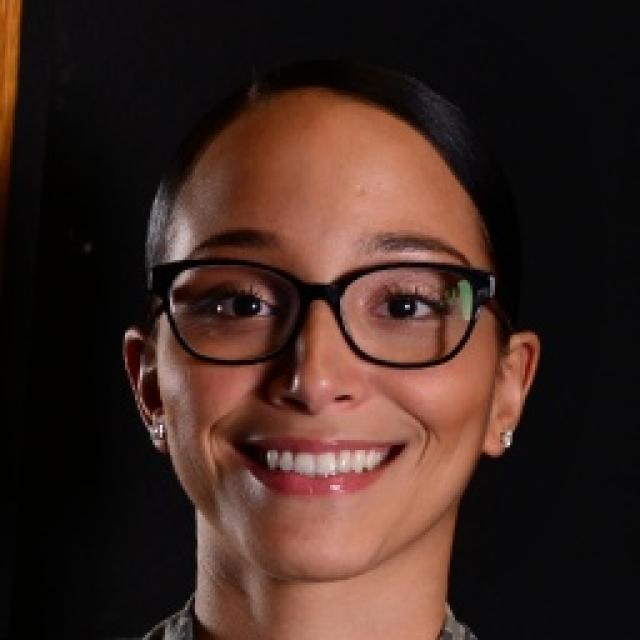glasses: (140, 240, 513, 379)
